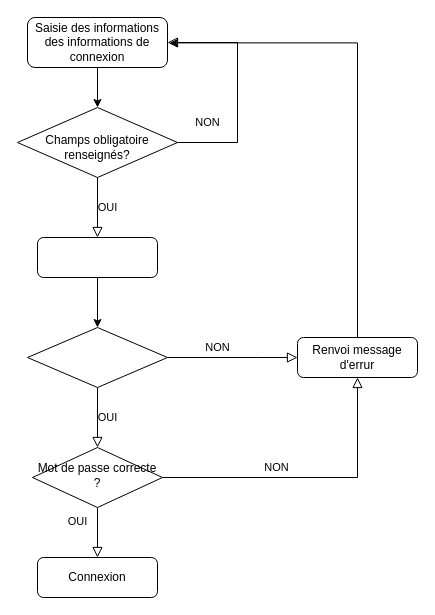
Some shapes in this 435 by 615 pixel diagram are drawn without their labels. Here are the shapes that lost their labels. From the top down, the centre of each, then its label:
(97,257): Envoi des données pour connexion
(97,357): Utilisateur existe
